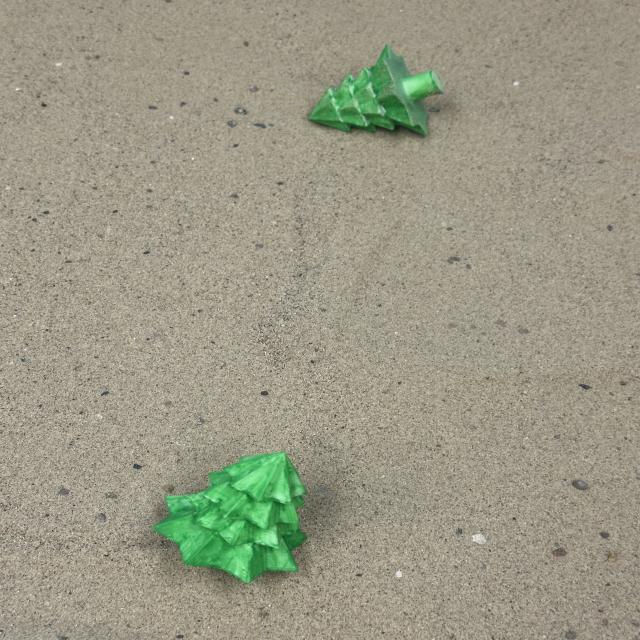tree: (152, 450, 308, 584), (306, 42, 444, 136)
